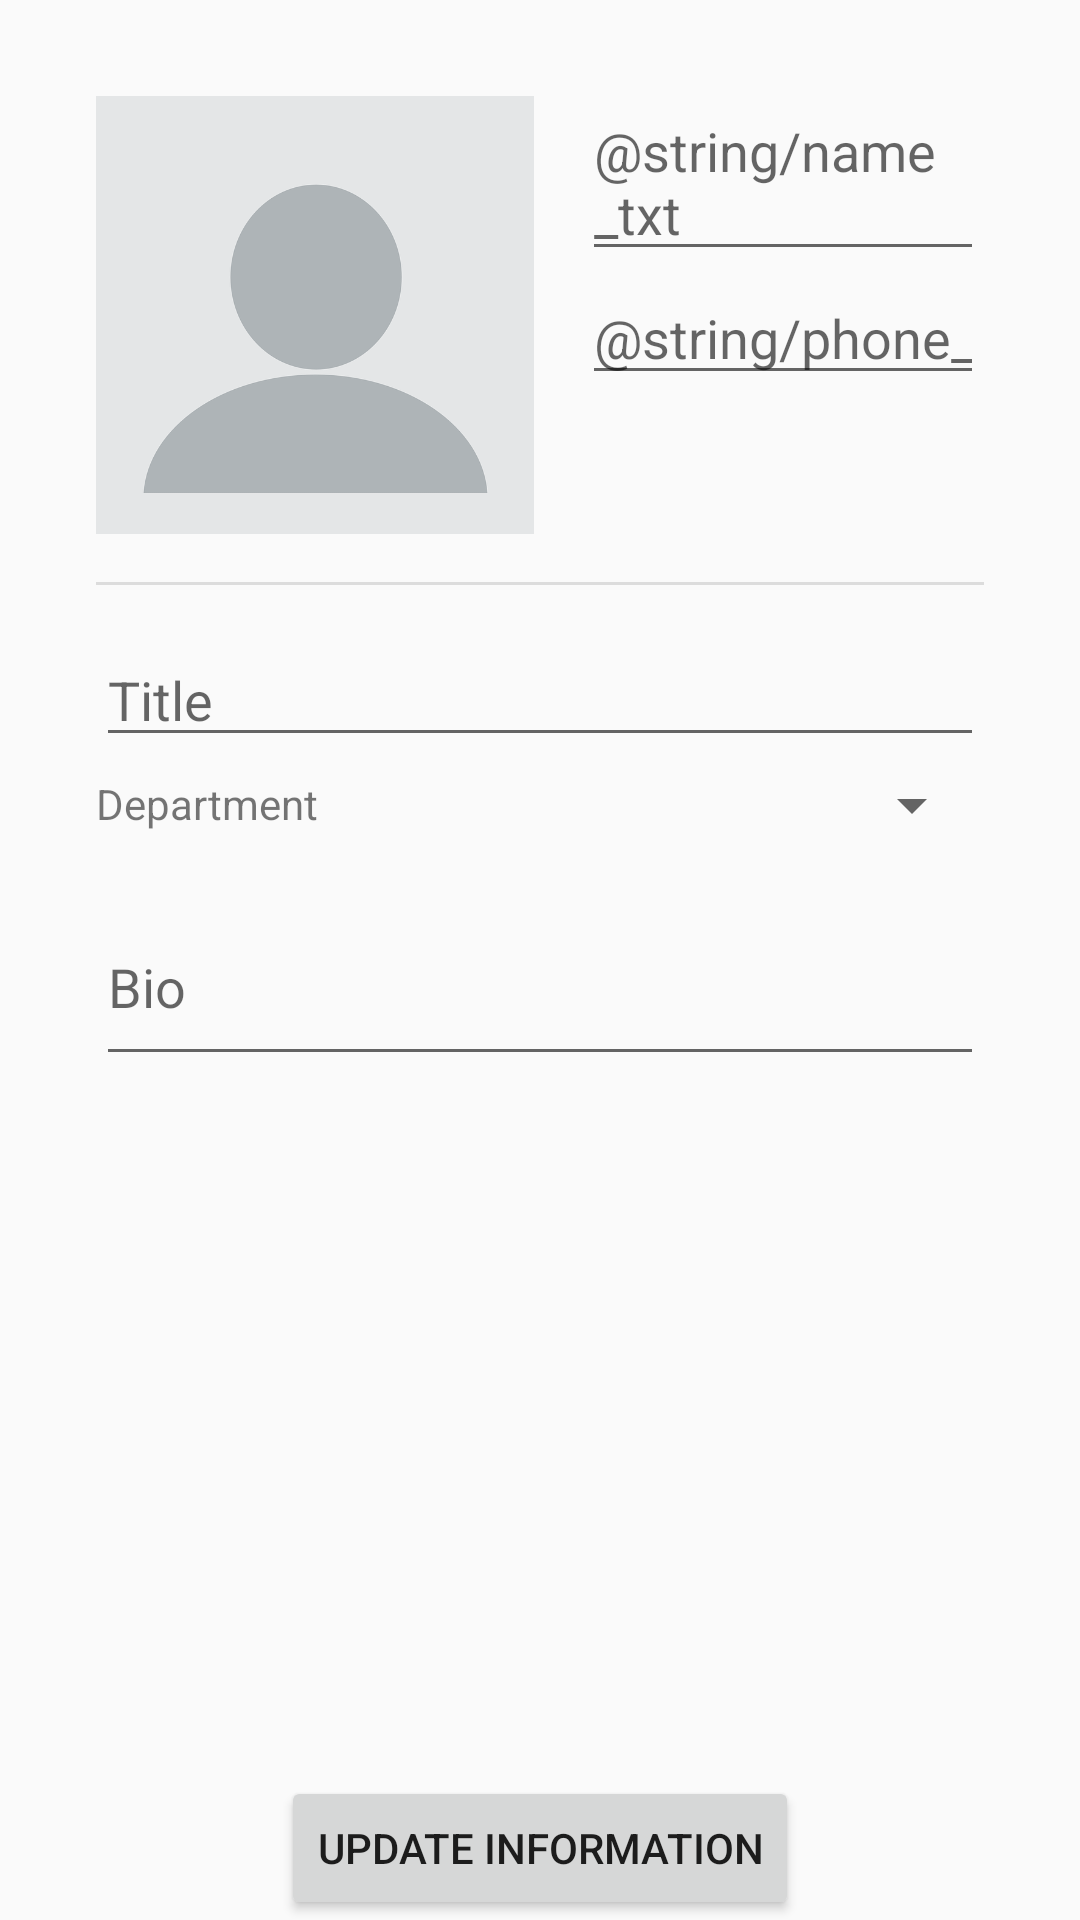

Where to tap for icons on this 1080 x 1920 app screen, as [x,y]:
profile: [315,338]
